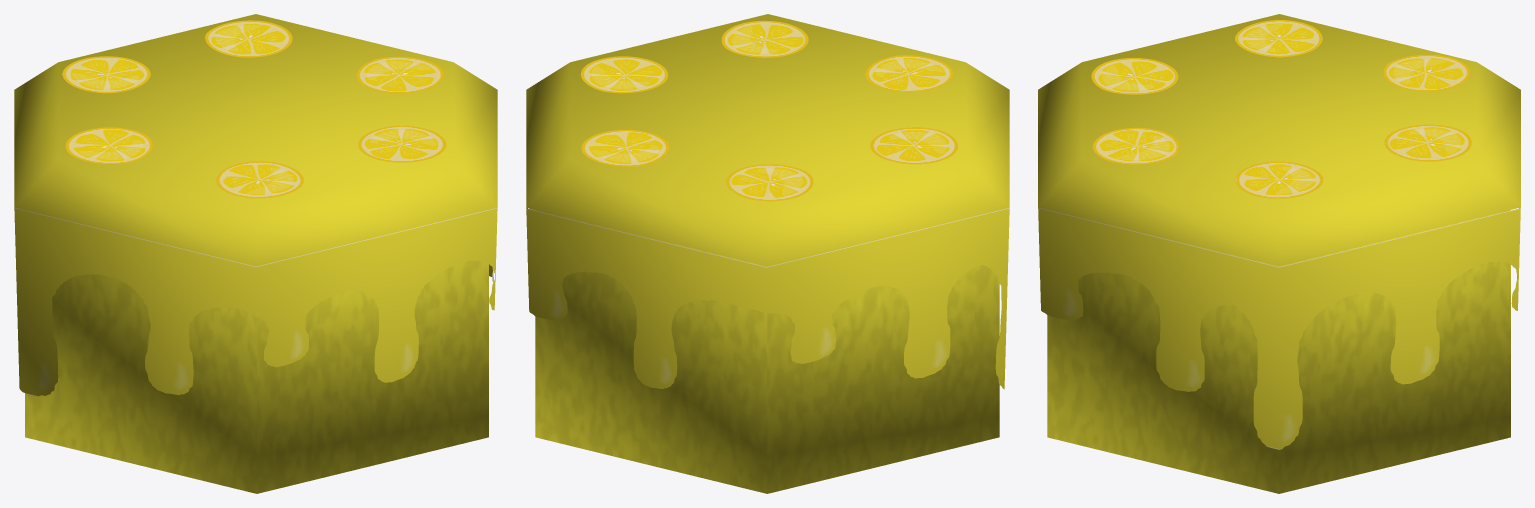
The model's file is Cake_A_07.FBX.
The picture shows the model from 3 angles, left to right: view 1: azimuth 30°, elevation 25°; view 2: azimuth 150°, elevation 25°; view 3: azimuth 270°, elevation 25°; orthographic projection.
Parts seen in each view (by area): view 1: Cake; view 2: Cake; view 3: Cake.
Part boxes in pixels (left/top/right/bottom): Cake: left=14, top=14, right=497, bottom=493; Cake: left=526, top=14, right=1009, bottom=493; Cake: left=1038, top=14, right=1520, bottom=493.
Size of the model in its own units: 106 by 56.96 by 92.14.
